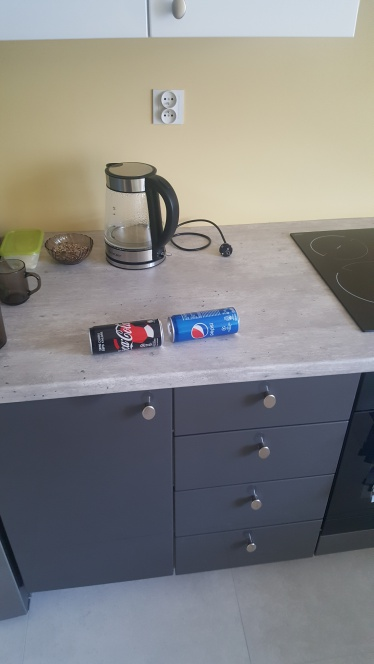colazero: (82, 318, 164, 359)
pepsi: (164, 302, 248, 349)
